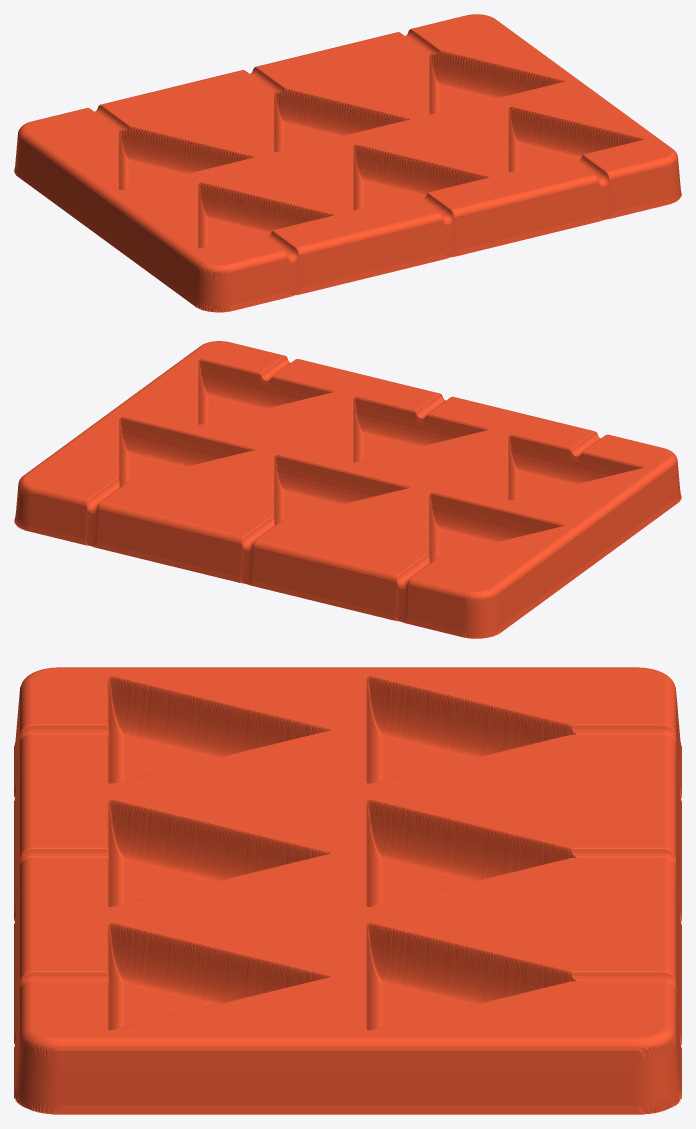
The model's file is mold.glb.
The picture shows the model from 3 angles, top to bottom: view 1: azimuth 30°, elevation 25°; view 2: azimuth 150°, elevation 25°; view 3: azimuth 270°, elevation 25°; orthographic projection. The views are drawn at different scales.
Parts seen in each view (by area): view 1: geometry_0; view 2: geometry_0; view 3: geometry_0.
Part boxes in pixels (<box>): geometry_0: <box>14,14,681,312</box>; geometry_0: <box>14,341,681,638</box>; geometry_0: <box>14,667,681,1114</box>.
Size of the model in its own units: 0.1824 by 0.0155 by 0.1342.
